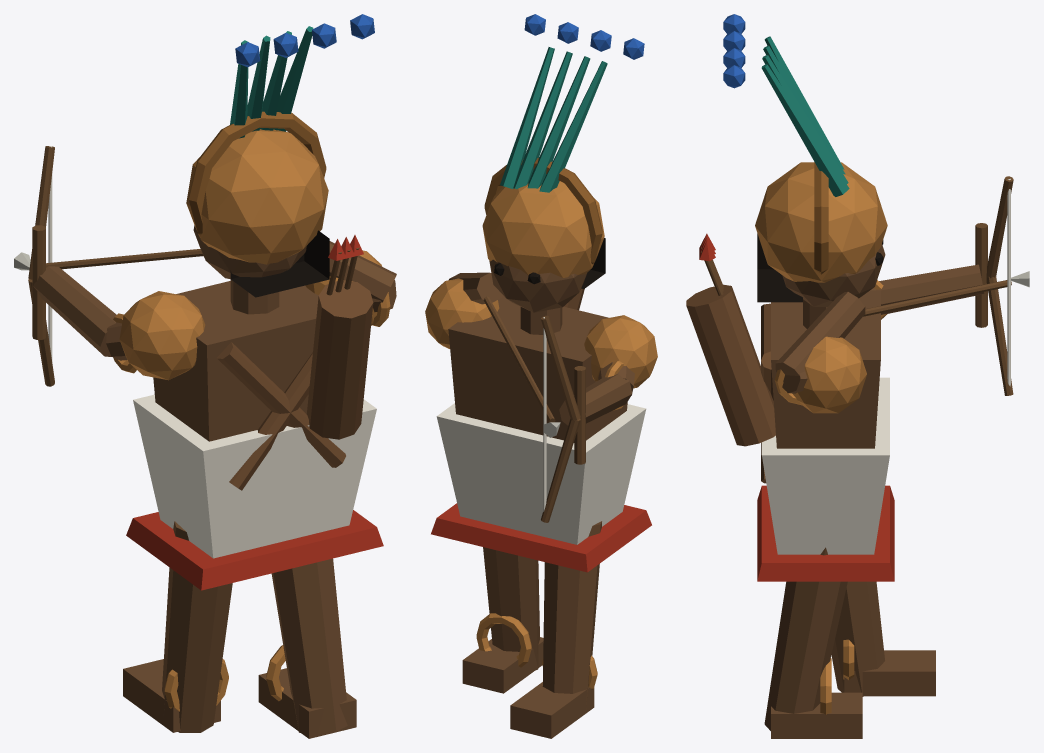
Rendered from sangam_archer.glb.
3 renders of one model, left to right at view 1: azimuth 30°, elevation 25°; view 2: azimuth 150°, elevation 25°; view 3: azimuth 270°, elevation 25°, orthographic. The views are drawn at different scales.
Parts seen in each view (by area): view 1: legL; view 2: legL; view 3: legL.
Part boxes in pixels (x1,y1,x2,y2): legL: (14,14,396,738); legL: (425,14,657,738); legL: (686,14,1029,738).
Bounding box in the file's own units: 0.6104 × 1.62 × 0.7501.
